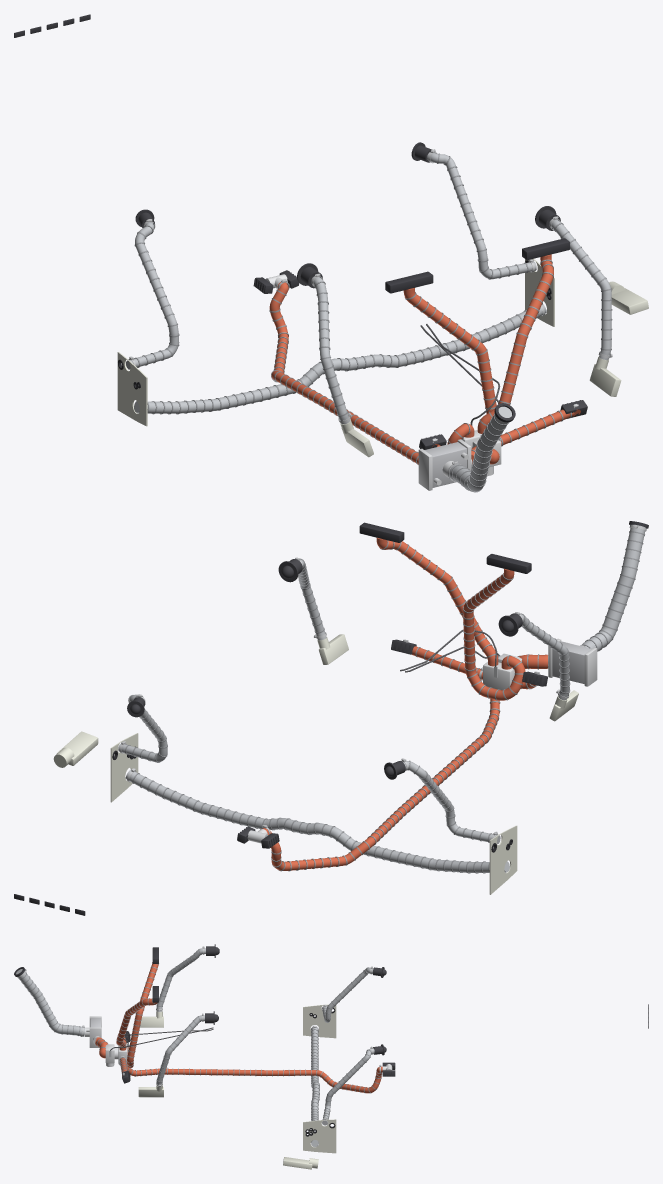
File: da40-air.glb
3 renders of one model, top to bottom at view 1: azimuth 30°, elevation 25°; view 2: azimuth 150°, elevation 25°; view 3: azimuth 270°, elevation 25°, orthographic. The views are drawn at different scales.
Visible parts, largest first — view 1: Passenger air crossover duct, Passenger floor heat duct, Defrost duct RH, Defrost duct LH, Fuselage side air duct LH, Fuselage side air duct RH, Heat exchanger air intake duct, Cabin heat exchanger, Pilot air duct LH, Pilot air duct RH, Stub wing inner closing rib RH, Pilot floor heat duct LH (+3 smaller); view 2: Passenger air crossover duct, Passenger floor heat duct, Defrost duct RH, Heat exchanger air intake duct, Defrost duct LH, Cabin heat exchanger, Stub wing inner closing rib RH, Fuselage side air duct RH, Stub wing inner closing rib LH, Pilot air duct RH, Fuselage side air duct LH, Passenger NACA inlet duct (LH stub wing) (+4 smaller); view 3: Passenger floor heat duct, Heat exchanger air intake duct, Stub wing inner closing rib LH, Stub wing inner closing rib RH, Passenger air crossover duct, Defrost duct RH, Fuselage side air duct LH, Pilot air duct LH, Pilot air duct RH, Defrost duct LH, Fuselage side air duct RH, Cabin heat exchanger (+1 smaller).
Boxes of the visible parts, bbox=[...] form: Passenger air crossover duct: bbox=[134, 304, 546, 414]; Passenger floor heat duct: bbox=[269, 279, 471, 469]; Defrost duct RH: bbox=[403, 288, 496, 444]; Defrost duct LH: bbox=[477, 254, 553, 433]; Fuselage side air duct LH: bbox=[427, 149, 536, 279]; Fuselage side air duct RH: bbox=[126, 219, 179, 369]; Heat exchanger air intake duct: bbox=[447, 406, 511, 492]; Cabin heat exchanger: bbox=[418, 439, 472, 490]; Pilot air duct LH: bbox=[549, 216, 612, 360]; Pilot air duct RH: bbox=[311, 273, 351, 424]; Stub wing inner closing rib RH: bbox=[117, 352, 147, 426]; Pilot floor heat duct LH: bbox=[500, 404, 580, 446]; Passenger air crossover duct: bbox=[125, 768, 509, 873]; Passenger floor heat duct: bbox=[260, 698, 500, 871]; Defrost duct RH: bbox=[462, 568, 525, 700]; Heat exchanger air intake duct: bbox=[580, 524, 646, 651]; Defrost duct LH: bbox=[376, 537, 498, 666]; Cabin heat exchanger: bbox=[548, 638, 597, 686]; Stub wing inner closing rib RH: bbox=[489, 825, 517, 894]; Fuselage side air duct RH: bbox=[401, 758, 500, 843]; Stub wing inner closing rib LH: bbox=[110, 733, 138, 802]; Pilot air duct RH: bbox=[515, 612, 570, 700]; Fuselage side air duct LH: bbox=[118, 694, 167, 762]; Passenger NACA inlet duct (LH stub wing): bbox=[53, 731, 98, 767]; Passenger floor heat duct: bbox=[119, 1064, 382, 1093]; Heat exchanger air intake duct: bbox=[16, 969, 84, 1036]; Stub wing inner closing rib LH: bbox=[303, 1119, 336, 1153]; Stub wing inner closing rib RH: bbox=[303, 1004, 336, 1038]; Passenger air crossover duct: bbox=[311, 1025, 319, 1147]; Defrost duct RH: bbox=[123, 962, 158, 1068]; Fuselage side air duct LH: bbox=[321, 1046, 374, 1125]; Pilot air duct LH: bbox=[156, 1013, 204, 1086]; Pilot air duct RH: bbox=[156, 946, 205, 1011]; Defrost duct LH: bbox=[116, 998, 157, 1050]; Fuselage side air duct RH: bbox=[322, 966, 373, 1022]; Cabin heat exchanger: bbox=[84, 1016, 101, 1047].
Size of the model in its own units: 1.79 by 0.7726 by 3.47.
